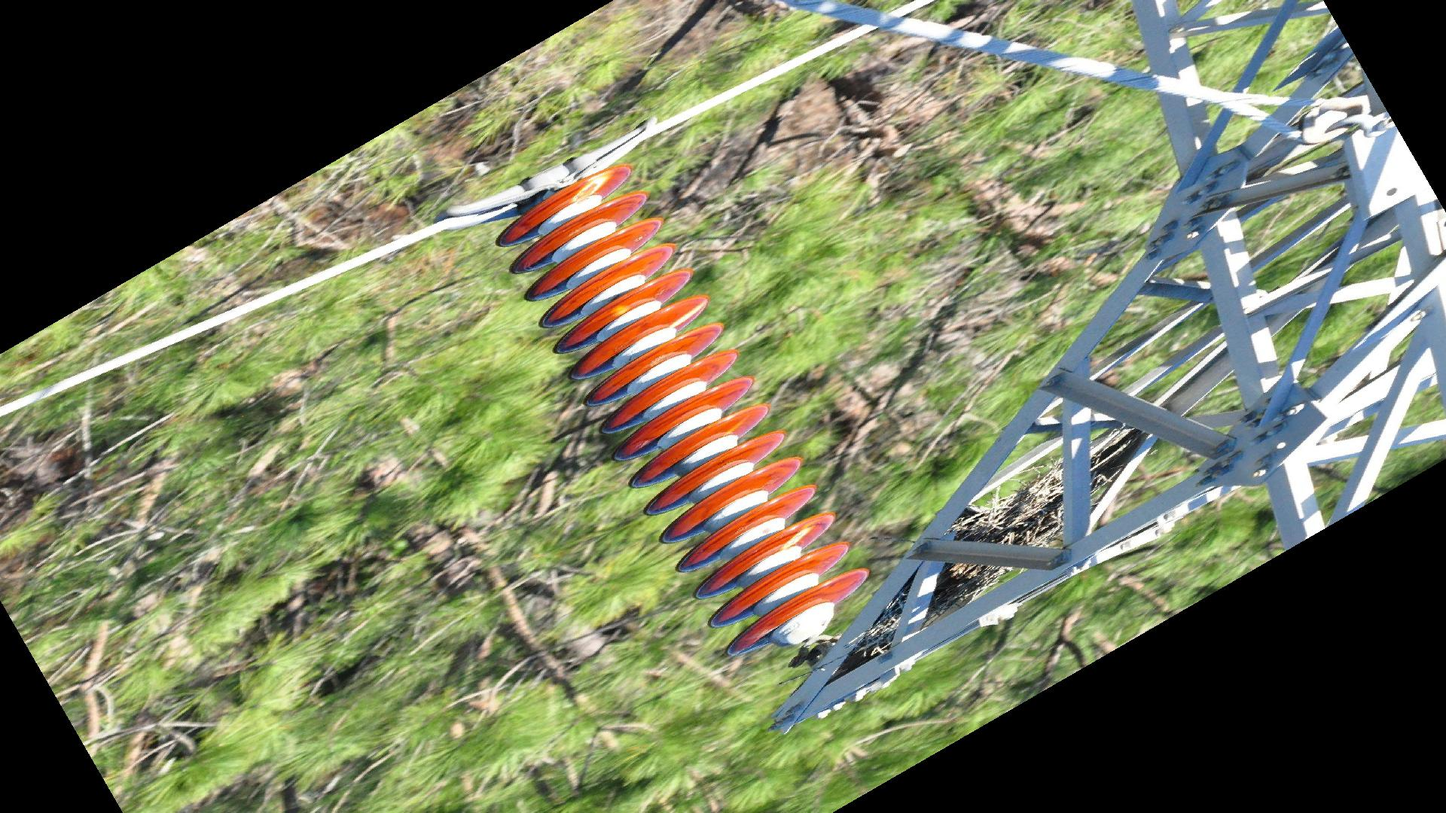insulator: (491, 159, 873, 662)
insulator_flashover: (570, 168, 613, 206), (667, 300, 707, 330), (779, 524, 813, 551)
